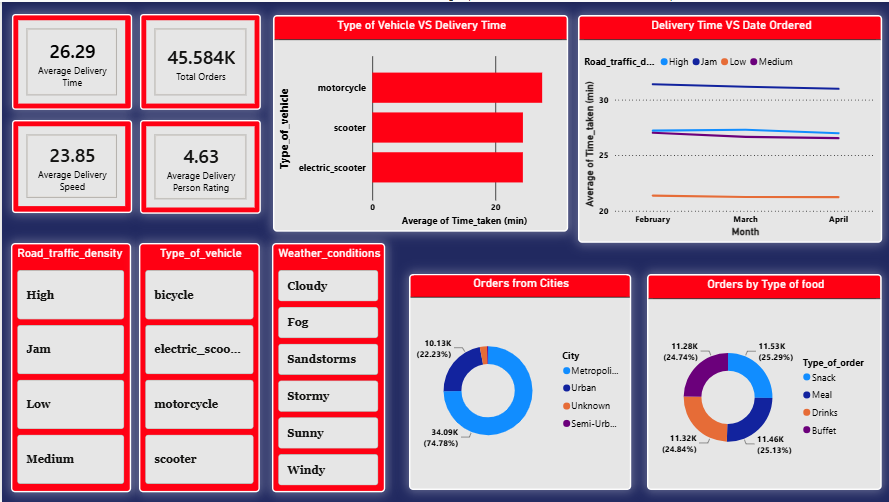

This screenshot's page, from the dashboard's own definition file:
{"tool":"powerbi","page":{"name":"Second Page","canvas":[1280,720],"ordinal":1},"visuals":[{"type":"cardVisual","fields":{"Data":["Count(Zomato Dataset.ID)"]},"box":[198.7,17.3,174.2,138.2],"z":0},{"type":"cardVisual","fields":{"Data":["Avg(Zomato Dataset.Time_taken (min))"]},"box":[14.4,17.3,172.8,138.2],"z":1000},{"type":"cardVisual","fields":{"Data":["Avg(Zomato Dataset.Delivery_Speed_kmh)"]},"box":[14.4,169.9,172.8,133.9],"z":2000},{"type":"cardVisual","fields":{"Data":["Avg(Zomato Dataset.Delivery_person_Ratings)"]},"box":[198.7,169.9,174.2,135.4],"z":3000},{"type":"advancedSlicerVisual","fields":{"Values":["Zomato Dataset.Road_traffic_density"]},"box":[13,347,172.8,358.6],"z":4000},{"type":"advancedSlicerVisual","fields":{"Values":["Zomato Dataset.Type_of_vehicle"]},"box":[197.3,347,174.2,358.6],"z":5000},{"type":"advancedSlicerVisual","fields":{"Values":["Zomato Dataset.Weather_conditions"]},"box":[388.8,347,162.7,358.6],"z":6000},{"type":"clusteredBarChart","title":"Type of Vehicle VS Delivery Time","fields":{"Category":["Zomato Dataset.Type_of_vehicle"],"Y":["Avg(Zomato Dataset.Time_taken (min))"]},"box":[390.2,18.7,424.8,312.5],"z":7000},{"type":"lineChart","title":"Delivery Time VS Date Ordered","fields":{"Y":["Avg(Zomato Dataset.Time_taken (min))"],"Category":["Zomato Dataset.Order_Date.Variation.Date Hierarchy.Month"],"Series":["Zomato Dataset.Road_traffic_density"]},"box":[829.4,18.7,437.8,328.3],"z":8000},{"type":"donutChart","title":"Orders from Cities","fields":{"Category":["Zomato Dataset.City"],"Y":["CountNonNull(Zomato Dataset.ID)"]},"box":[586.1,391.7,319.7,311],"z":9000},{"type":"donutChart","title":"Orders by Type of food","fields":{"Y":["CountNonNull(Zomato Dataset.ID)"],"Category":["Zomato Dataset.Type_of_order"]},"box":[928.8,391.7,338.4,311],"z":10000}]}

Visuals, with their boxes in screenshot pixels (x1, y1, x2, y2), scaled from the page's 1280x720 canvas onto the 889x502 screenshot:
cardVisual - Count(Zomato Dataset.ID): bbox(138, 12, 259, 108)
cardVisual - Avg(Zomato Dataset.Time_taken (min)): bbox(10, 12, 130, 108)
cardVisual - Avg(Zomato Dataset.Delivery_Speed_kmh): bbox(10, 118, 130, 212)
cardVisual - Avg(Zomato Dataset.Delivery_person_Ratings): bbox(138, 118, 259, 213)
advancedSlicerVisual - Zomato Dataset.Road_traffic_density: bbox(9, 242, 129, 492)
advancedSlicerVisual - Zomato Dataset.Type_of_vehicle: bbox(137, 242, 258, 492)
advancedSlicerVisual - Zomato Dataset.Weather_conditions: bbox(270, 242, 383, 492)
"Type of Vehicle VS Delivery Time" clusteredBarChart: bbox(271, 13, 566, 231)
"Delivery Time VS Date Ordered" lineChart: bbox(576, 13, 880, 242)
"Orders from Cities" donutChart: bbox(407, 273, 629, 490)
"Orders by Type of food" donutChart: bbox(645, 273, 880, 490)
